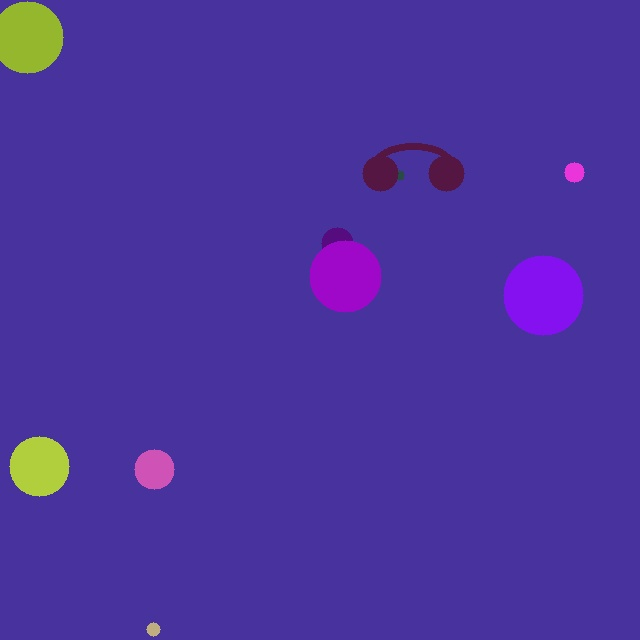over_ear: (358, 131, 468, 195)
